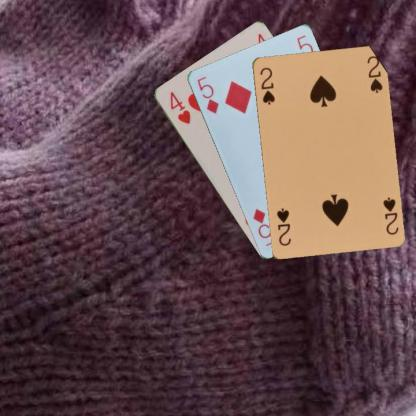2s: (257, 64, 276, 106), (380, 194, 399, 236)
4h: (167, 89, 192, 125)
5d: (194, 73, 220, 115)
